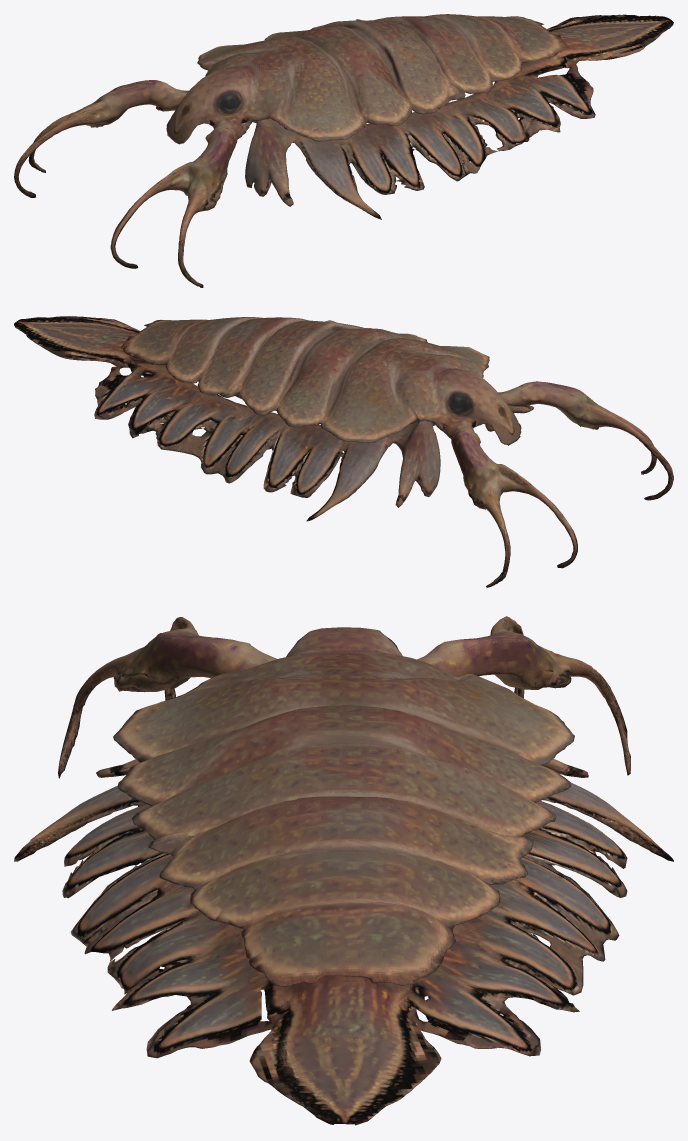
3 renders of one model, top to bottom at view 1: azimuth 30°, elevation 25°; view 2: azimuth 150°, elevation 25°; view 3: azimuth 270°, elevation 25°, orthographic. The views are drawn at different scales.
Parts seen in each view (by area): view 1: world; view 2: world; view 3: world.
Boxes of the visible parts, left/top/right/bottom form: world: left=14, top=14, right=673, bottom=287; world: left=14, top=316, right=673, bottom=587; world: left=14, top=616, right=673, bottom=1125.
Size of the model in its own units: 0.9917 by 0.218 by 0.5093.
Materials: 1 (1 with a texture image).
